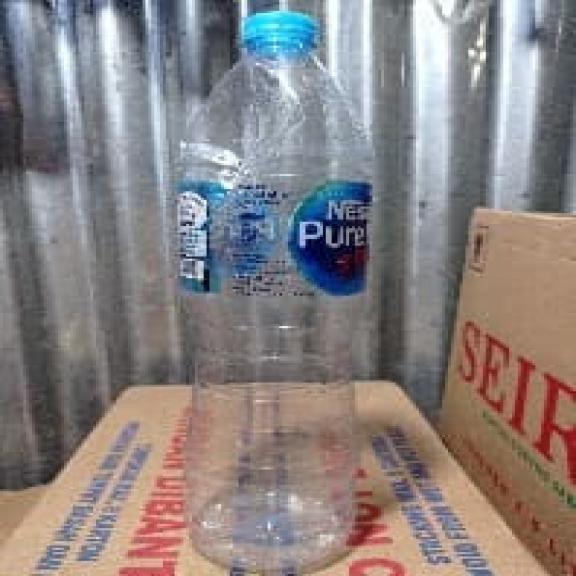Plastik: (181, 10, 372, 574)
